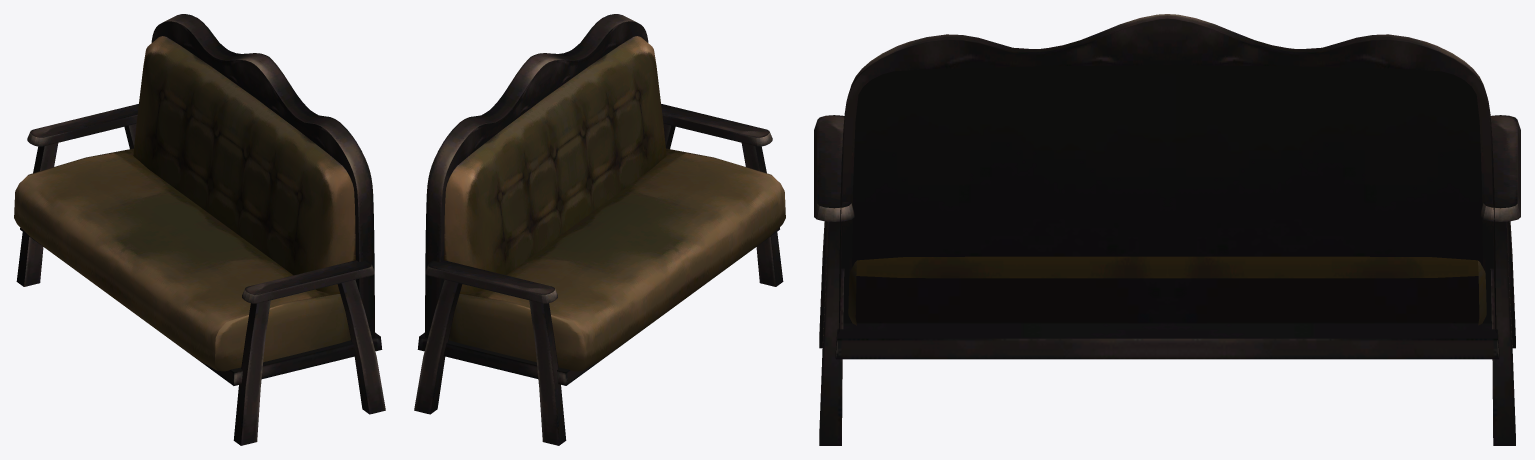
The model's file is sillonsup.obj.
3 views of the same model, side by side, from view 1: azimuth 30°, elevation 25°; view 2: azimuth 150°, elevation 25°; view 3: azimuth 270°, elevation 25° (orthographic). The views are drawn at different scales.
Parts seen in each view (by area): view 1: sofaA02_meshId140.001; view 2: sofaA02_meshId140.001; view 3: sofaA02_meshId140.001.
Part boxes in pixels (x1,y1,x2,y2): sofaA02_meshId140.001: [14, 14, 385, 445]; sofaA02_meshId140.001: [414, 14, 785, 445]; sofaA02_meshId140.001: [814, 14, 1520, 445].
Size of the model in its own units: 3.63 by 5.77 by 8.72.
2 materials, 2 textured.
